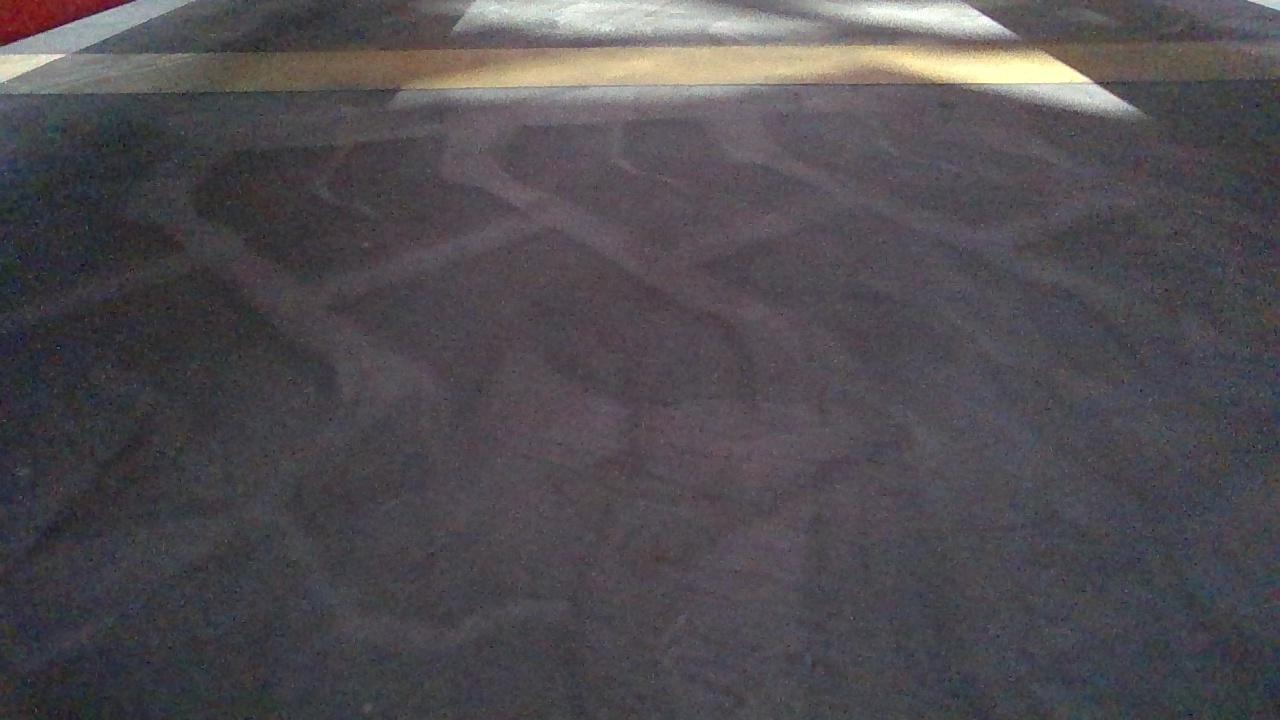yellow_line: (0, 33, 1280, 86)
